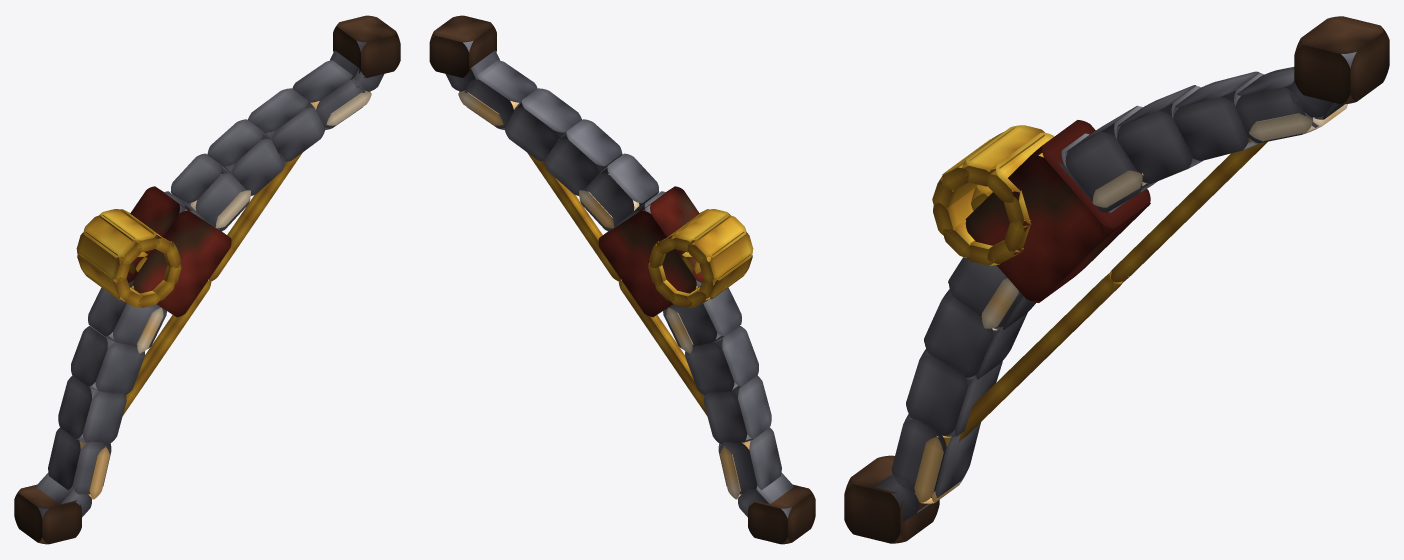
The model's file is ambush_bow.obj.
3 renders of one model, left to right at view 1: azimuth 30°, elevation 25°; view 2: azimuth 150°, elevation 25°; view 3: azimuth 330°, elevation 25°, orthographic. The views are drawn at different scales.
Parts seen in each view (by area): view 1: lit, fire; view 2: lit, fire; view 3: lit, fire.
Part boxes in pixels (x1,y1,x2,y2): lit: [14, 15, 400, 544]; fire: [79, 90, 371, 499]; lit: [429, 15, 815, 544]; fire: [458, 90, 750, 499]; lit: [844, 16, 1389, 543]; fire: [914, 104, 1347, 503].
Size of the model in its own units: 0.7906 by 0.8959 by 0.15.
